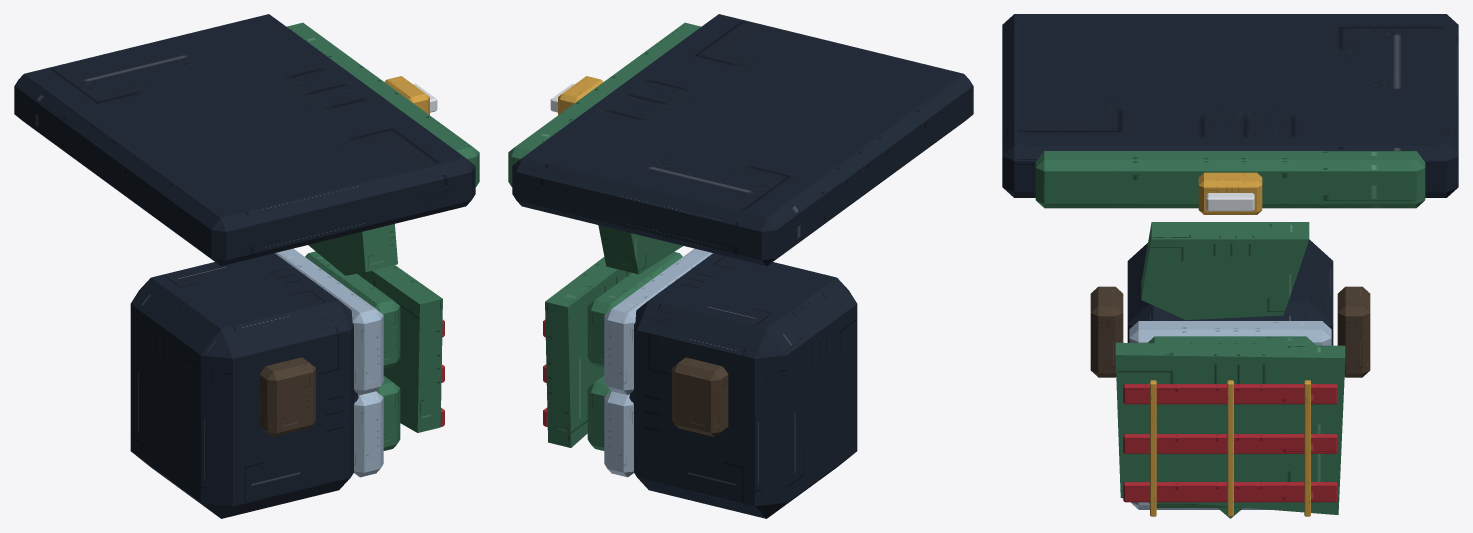
File: kilt.glb
3 views of the same model, side by side, from view 1: azimuth 30°, elevation 25°; view 2: azimuth 150°, elevation 25°; view 3: azimuth 270°, elevation 25° (orthographic). The views are drawn at different scales.
Visible parts, largest first — view 1: hips, leg_L, leg_R, shin_L; view 2: hips, leg_L, shin_L; view 3: hips, leg_L, shin_L, leg_R.
Part boxes in pixels (left/top/right/bottom): hips: left=14, top=14, right=479, bottom=265; leg_L: left=130, top=248, right=444, bottom=518; leg_R: left=259, top=357, right=315, bottom=436; shin_L: left=308, top=224, right=397, bottom=402; hips: left=508, top=14, right=973, bottom=265; leg_L: left=543, top=248, right=857, bottom=518; shin_L: left=598, top=225, right=682, bottom=402; hips: left=1002, top=14, right=1458, bottom=214; leg_L: left=1115, top=239, right=1370, bottom=516; shin_L: left=1141, top=222, right=1309, bottom=518; leg_R: left=1090, top=286, right=1123, bottom=377.
Size of the model in its own units: 0.232 by 0.256 by 0.266.
7 materials, 7 textured.
